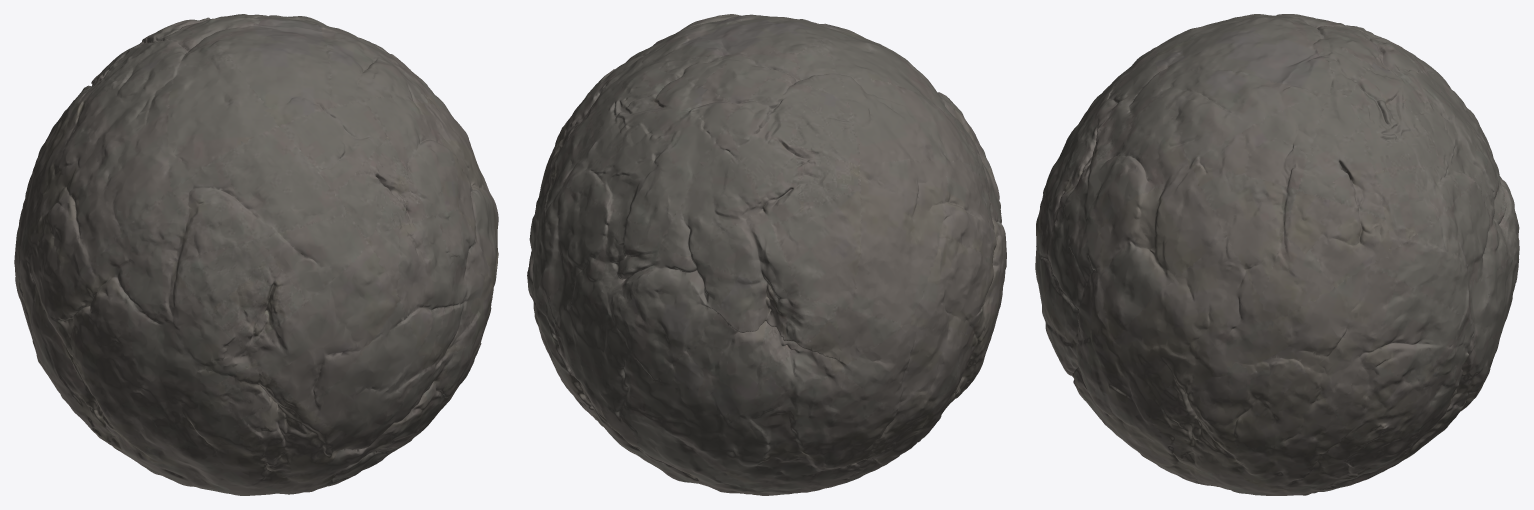
Rendered from rock_plain.glb.
3 views of the same model, side by side, from view 1: azimuth 30°, elevation 25°; view 2: azimuth 150°, elevation 25°; view 3: azimuth 270°, elevation 25° (orthographic).
Size of the model in its own units: 1.9 by 1.89 by 1.9.
1 material, 1 textured.
